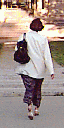person: (10, 15, 53, 115)
